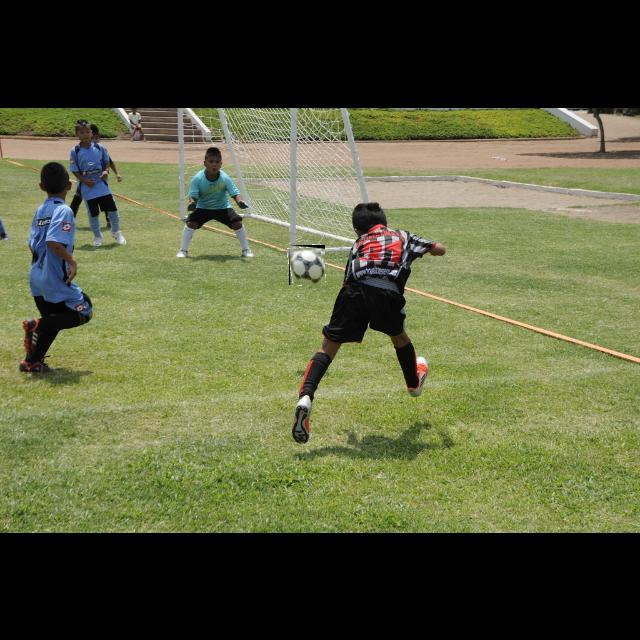Football: (289, 245, 325, 285)
